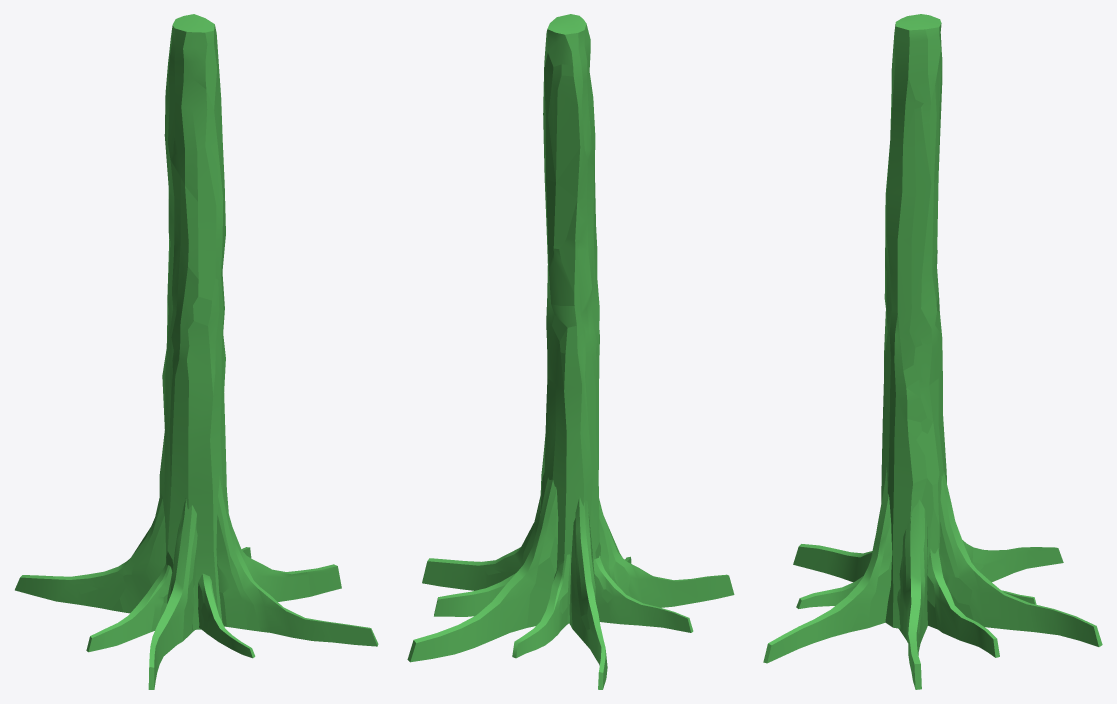
The model's file is jungle_big_tree_A_roots.fbx.
3 renders of one model, left to right at view 1: azimuth 30°, elevation 25°; view 2: azimuth 150°, elevation 25°; view 3: azimuth 270°, elevation 25°, orthographic.
Visible parts, largest first — view 1: jungle_big_tree_A, jungle_big_tree_A_root_E, jungle_big_tree_A_root_C, jungle_big_tree_A_root_D, jungle_big_tree_A_root_A, jungle_big_tree_A_root_small_C, jungle_big_tree_A_root_small_D; view 2: jungle_big_tree_A, jungle_big_tree_A_root_B, jungle_big_tree_A_root_D, jungle_big_tree_A_root_C, jungle_big_tree_A_root_A, jungle_big_tree_A_root_small_C, jungle_big_tree_A_root_small_B, jungle_big_tree_A_root_small_A; view 3: jungle_big_tree_A, jungle_big_tree_A_root_B, jungle_big_tree_A_root_E, jungle_big_tree_A_root_A, jungle_big_tree_A_root_small_A, jungle_big_tree_A_root_C, jungle_big_tree_A_root_D, jungle_big_tree_A_root_small_D.
Part boxes in pixels (bbox=[...]): jungle_big_tree_A: bbox=[159, 14, 228, 629]; jungle_big_tree_A_root_E: bbox=[216, 476, 378, 646]; jungle_big_tree_A_root_C: bbox=[15, 493, 165, 613]; jungle_big_tree_A_root_D: bbox=[148, 498, 197, 689]; jungle_big_tree_A_root_A: bbox=[233, 529, 341, 601]; jungle_big_tree_A_root_small_C: bbox=[86, 563, 171, 652]; jungle_big_tree_A_root_small_D: bbox=[198, 573, 255, 658]; jungle_big_tree_A: bbox=[540, 14, 600, 622]; jungle_big_tree_A_root_B: bbox=[407, 477, 558, 662]; jungle_big_tree_A_root_D: bbox=[599, 498, 734, 607]; jungle_big_tree_A_root_C: bbox=[569, 497, 607, 689]; jungle_big_tree_A_root_A: bbox=[422, 496, 540, 590]; jungle_big_tree_A_root_small_C: bbox=[593, 555, 693, 632]; jungle_big_tree_A_root_small_B: bbox=[512, 554, 570, 658]; jungle_big_tree_A_root_small_A: bbox=[434, 572, 516, 616]; jungle_big_tree_A: bbox=[881, 14, 946, 628]; jungle_big_tree_A_root_B: bbox=[939, 472, 1102, 646]; jungle_big_tree_A_root_E: bbox=[763, 467, 892, 663]; jungle_big_tree_A_root_A: bbox=[897, 499, 927, 689]; jungle_big_tree_A_root_small_A: bbox=[927, 548, 999, 657]; jungle_big_tree_A_root_C: bbox=[962, 540, 1063, 582]; jungle_big_tree_A_root_D: bbox=[793, 544, 872, 582]; jungle_big_tree_A_root_small_D: bbox=[796, 576, 863, 608].
Size of the model in its own units: 405 by 885 by 456.
